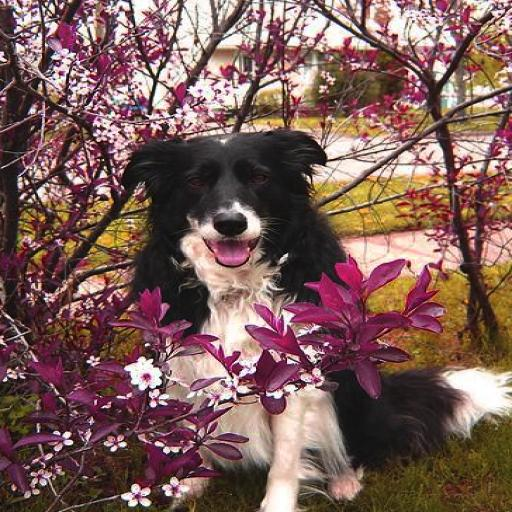dog_face: (121, 132, 356, 282)
